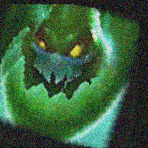Zac: (1, 21, 140, 135)
